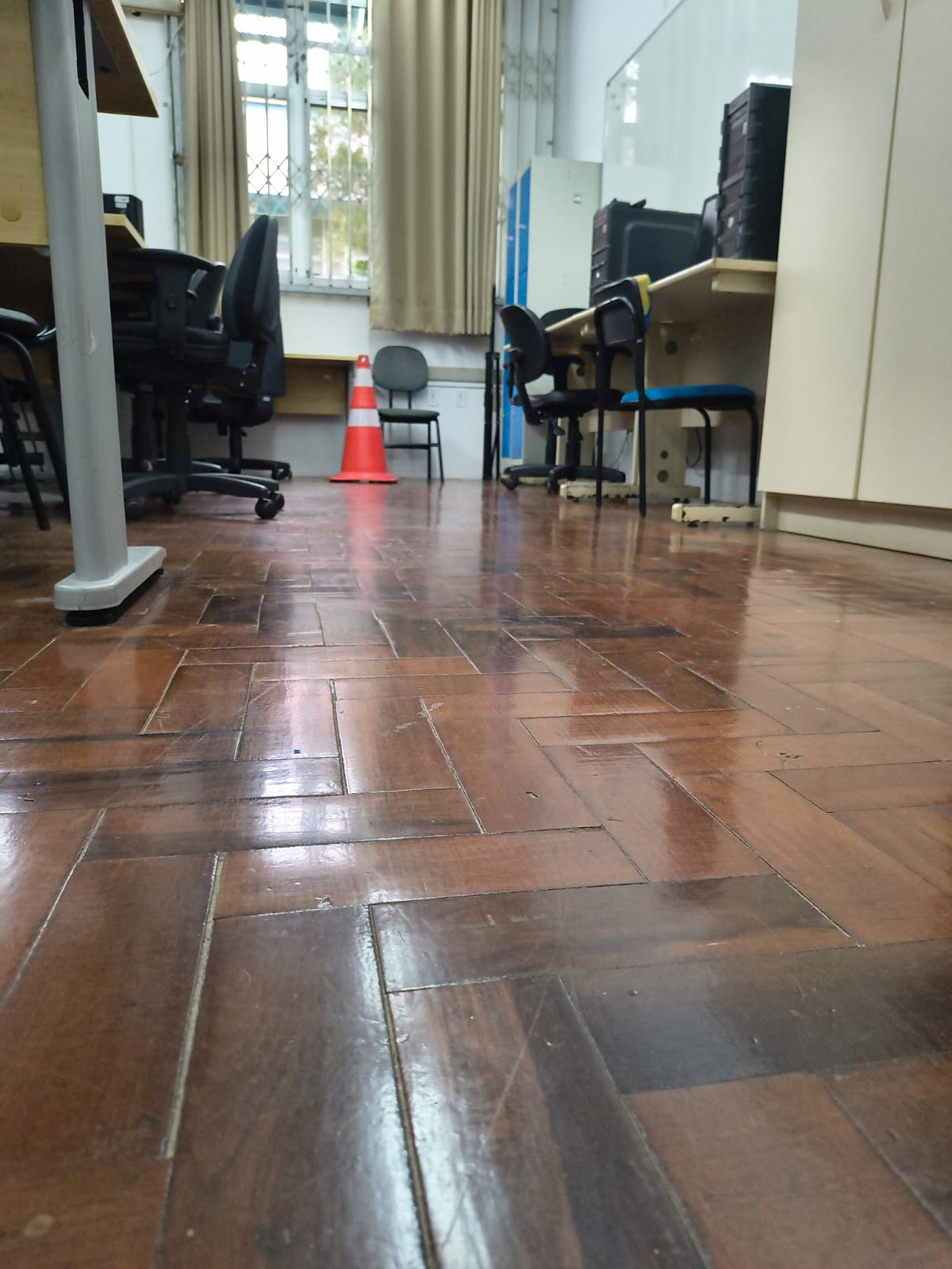cone: (331, 339, 400, 491)
